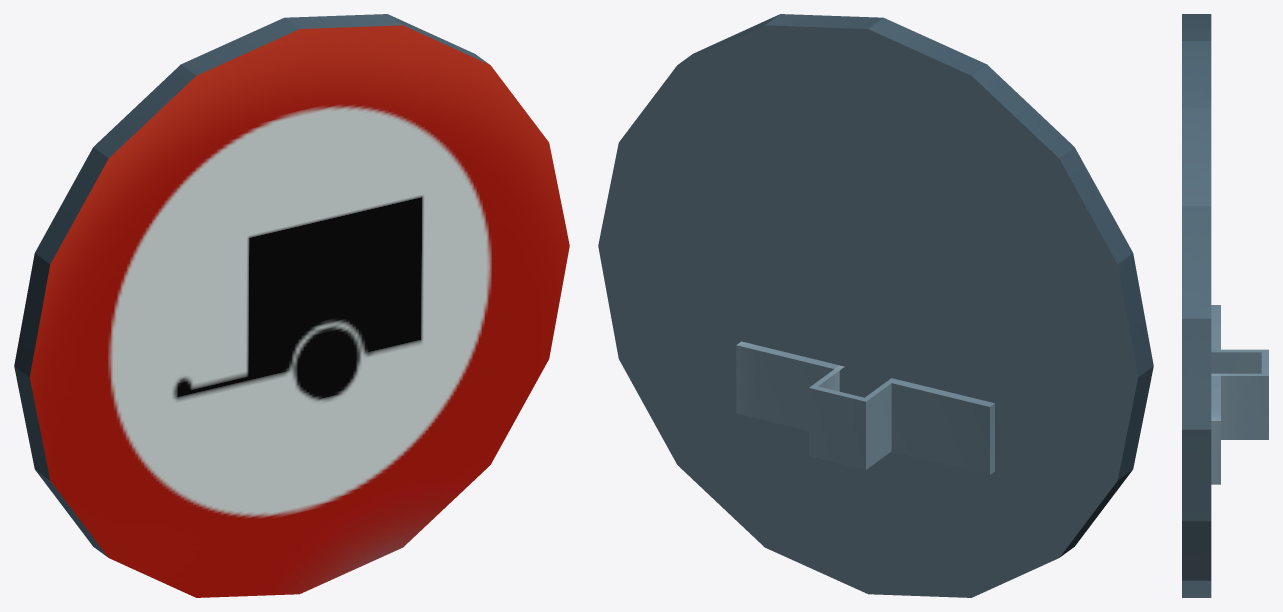
Rendered from Sign53Austrian.fbx.
3 views of the same model, side by side, from view 1: azimuth 30°, elevation 25°; view 2: azimuth 150°, elevation 25°; view 3: azimuth 270°, elevation 25° (orthographic). The views are drawn at different scales.
Visible parts, largest first — view 1: Sign53Austrian; view 2: Sign53Austrian; view 3: Sign53Austrian.
Part boxes in pixels (x1,y1,x2,y2): Sign53Austrian: (14, 14, 569, 597); Sign53Austrian: (598, 14, 1153, 597); Sign53Austrian: (1182, 14, 1268, 597).
Bounding box in the file's own units: 1 × 1 × 0.1489.
